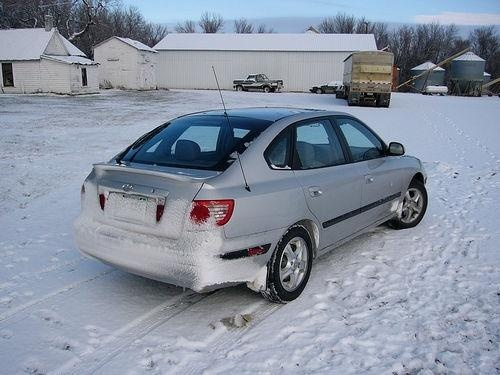car: (78, 107, 429, 304), (233, 72, 286, 96), (309, 79, 346, 96)
